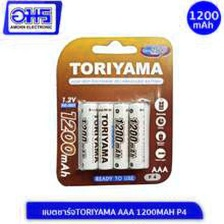battery: (76, 98, 104, 171), (107, 101, 133, 172), (125, 100, 151, 170), (95, 99, 117, 172)
